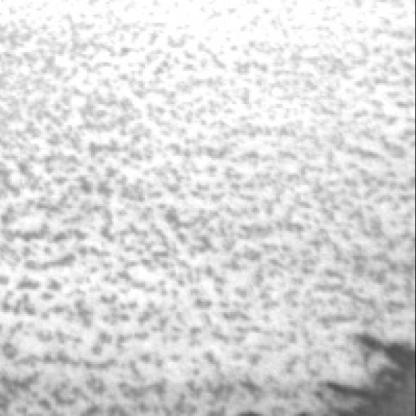patches: (318, 328, 416, 414)
pitted_surface: (21, 6, 399, 404)
